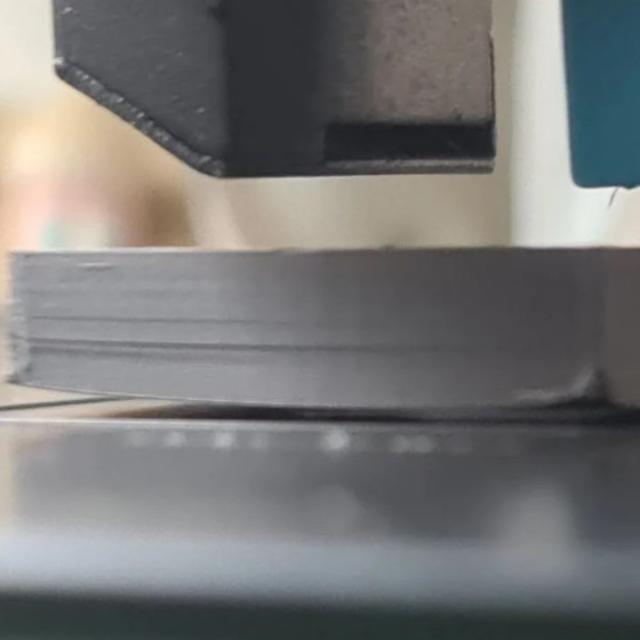Warping: (6, 372, 218, 432), (504, 373, 616, 433)
